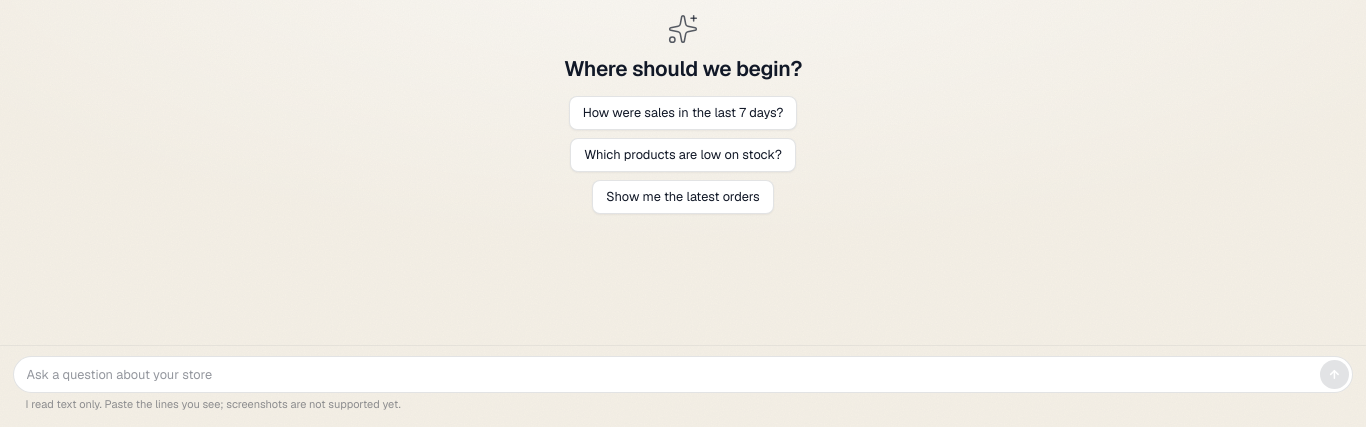
AssistantChat › renders a list and a code block with a Copy button, and still no HTML
Click the button "How were sales in the last 7 days?" at x=683, y=113, box [569,96,797,130]
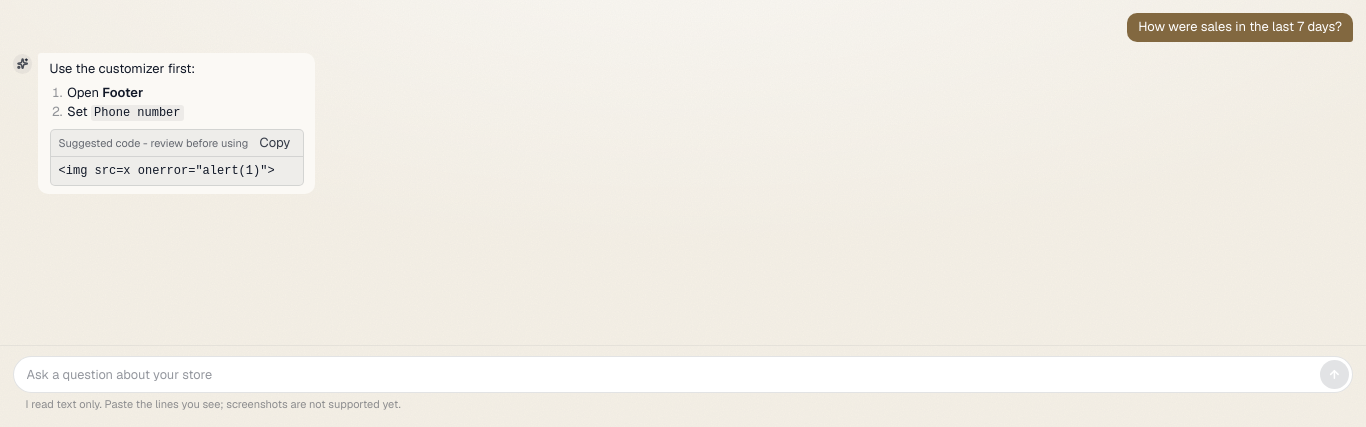
Expected: the list is shown, [67,84,184,121]
Expected: the number of list items is 2, [67,84,143,101]; [67,103,184,121]
Expected: the text "Footer" is shown, [102,84,143,101]
